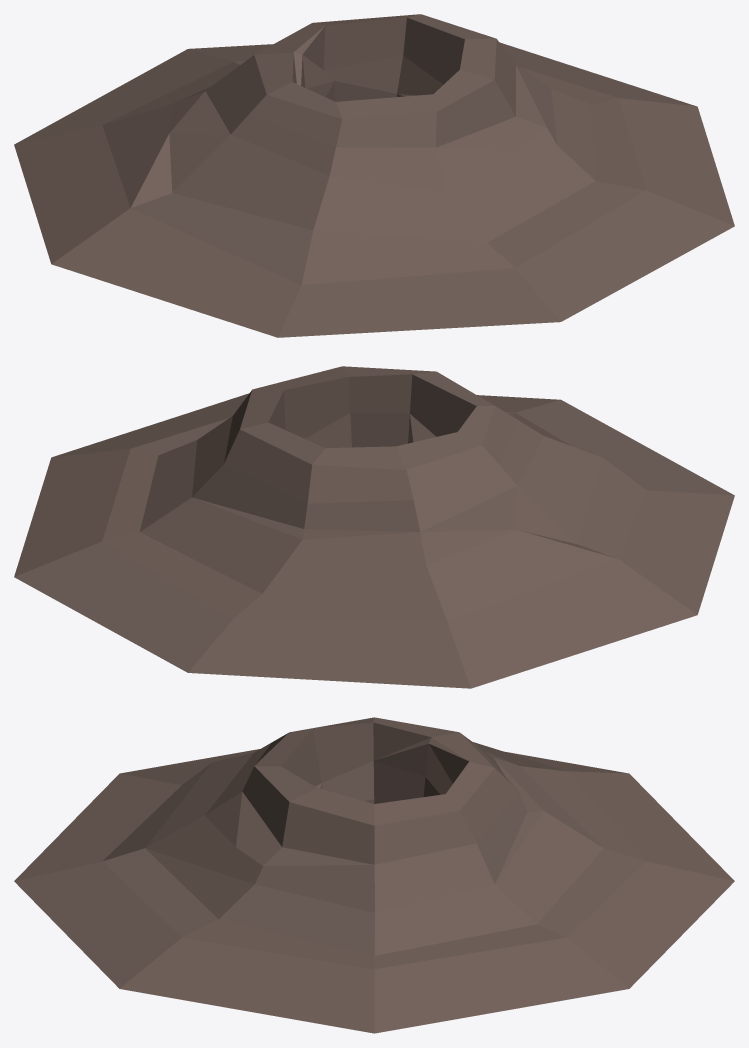
The model's file is Volcano.fbx.
The picture shows the model from 3 angles, top to bottom: view 1: azimuth 30°, elevation 25°; view 2: azimuth 150°, elevation 25°; view 3: azimuth 270°, elevation 25°; orthographic projection. The views are drawn at different scales.
Parts seen in each view (by area): view 1: pDisc2; view 2: pDisc2; view 3: pDisc2.
Boxes of the visible parts, x1,y1,x2,y2 form: pDisc2: [14, 14, 734, 337]; pDisc2: [14, 366, 734, 688]; pDisc2: [14, 717, 734, 1033].
Bounding box in the file's own units: 327 × 68.58 × 327.
